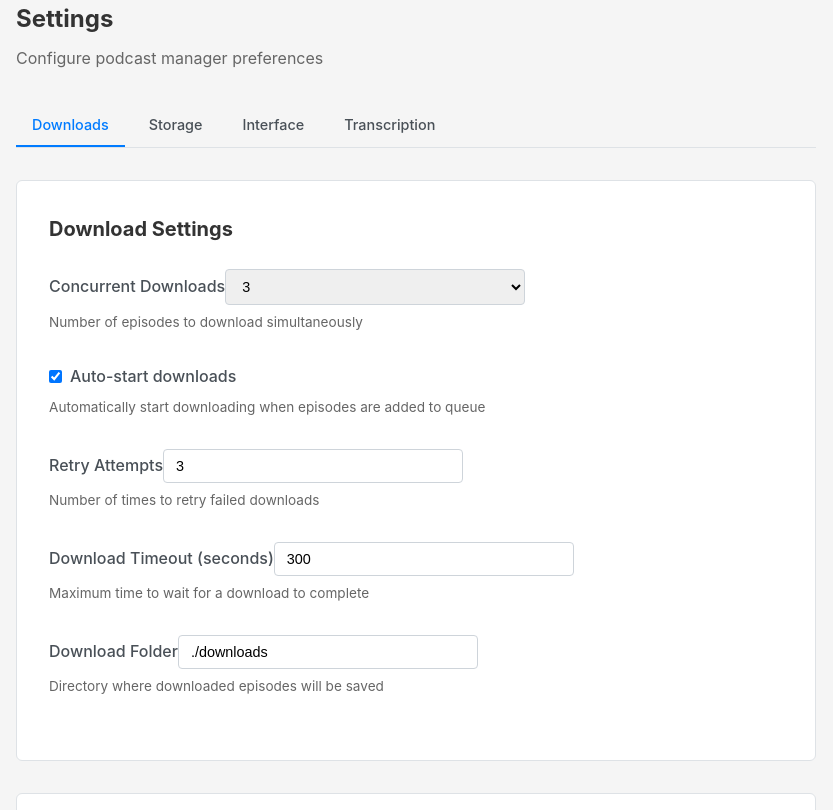
it: SettingsPanel › handles checkbox changes
Click the checkbox labelled "Auto-start downloads" at (56, 377), box [49,370,62,383]
(page scrolled)
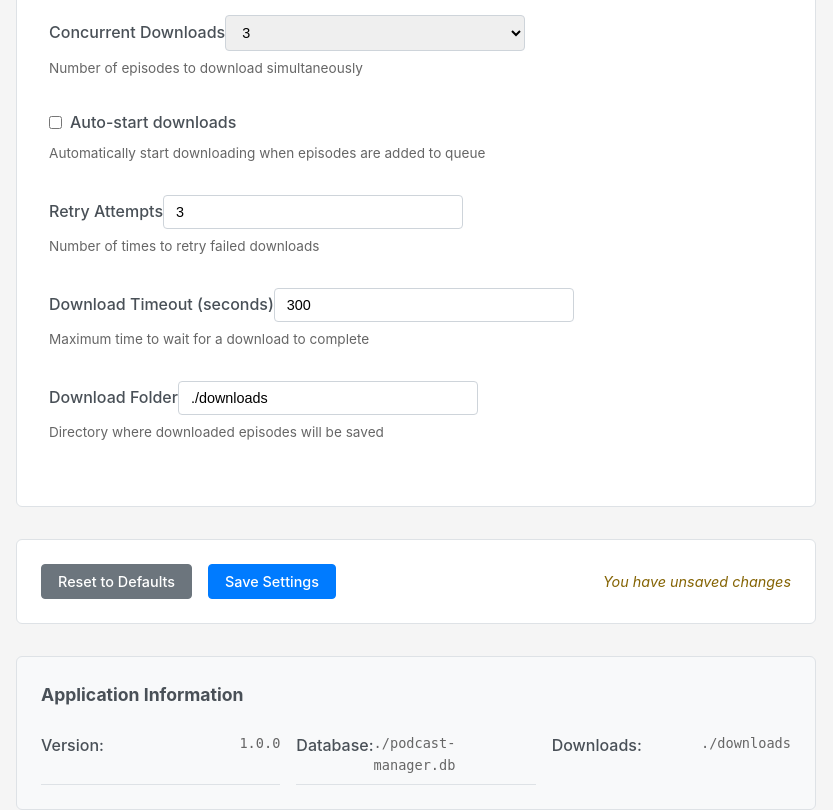
Result: the checkbox labelled "Auto-start downloads" is not checked at [49,116,62,129]
Result: the text "You have unsaved changes" is shown at [603,570,791,593]
